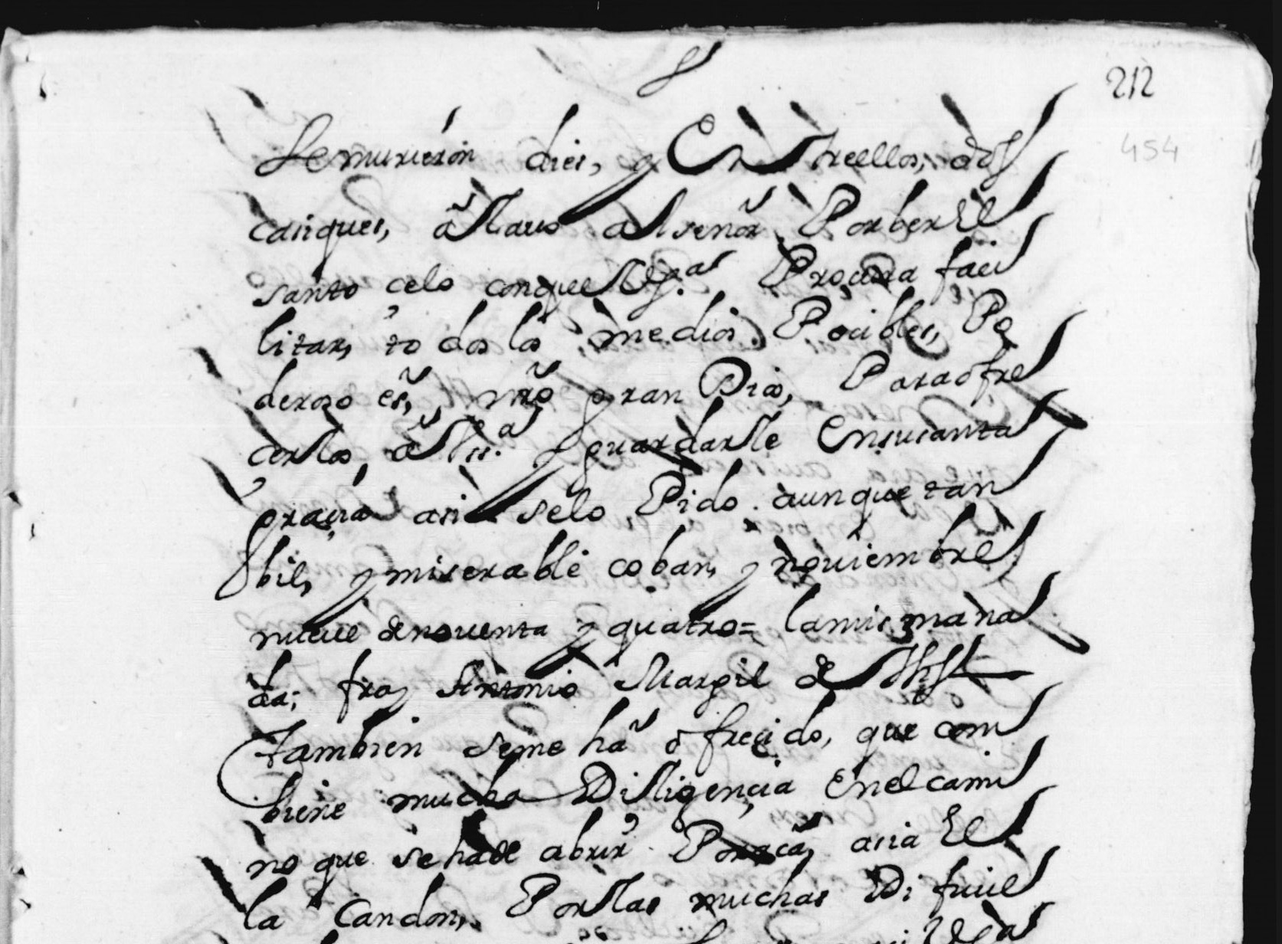lacandon: (243, 871, 457, 930)
